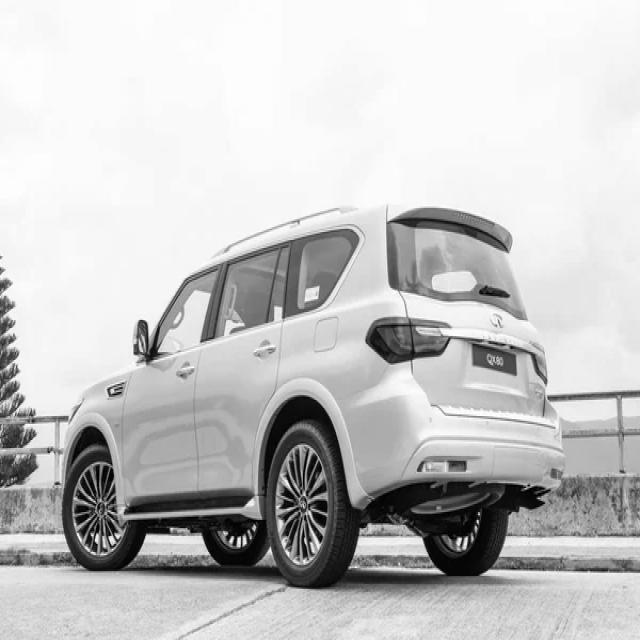Car: (62, 206, 563, 588)
